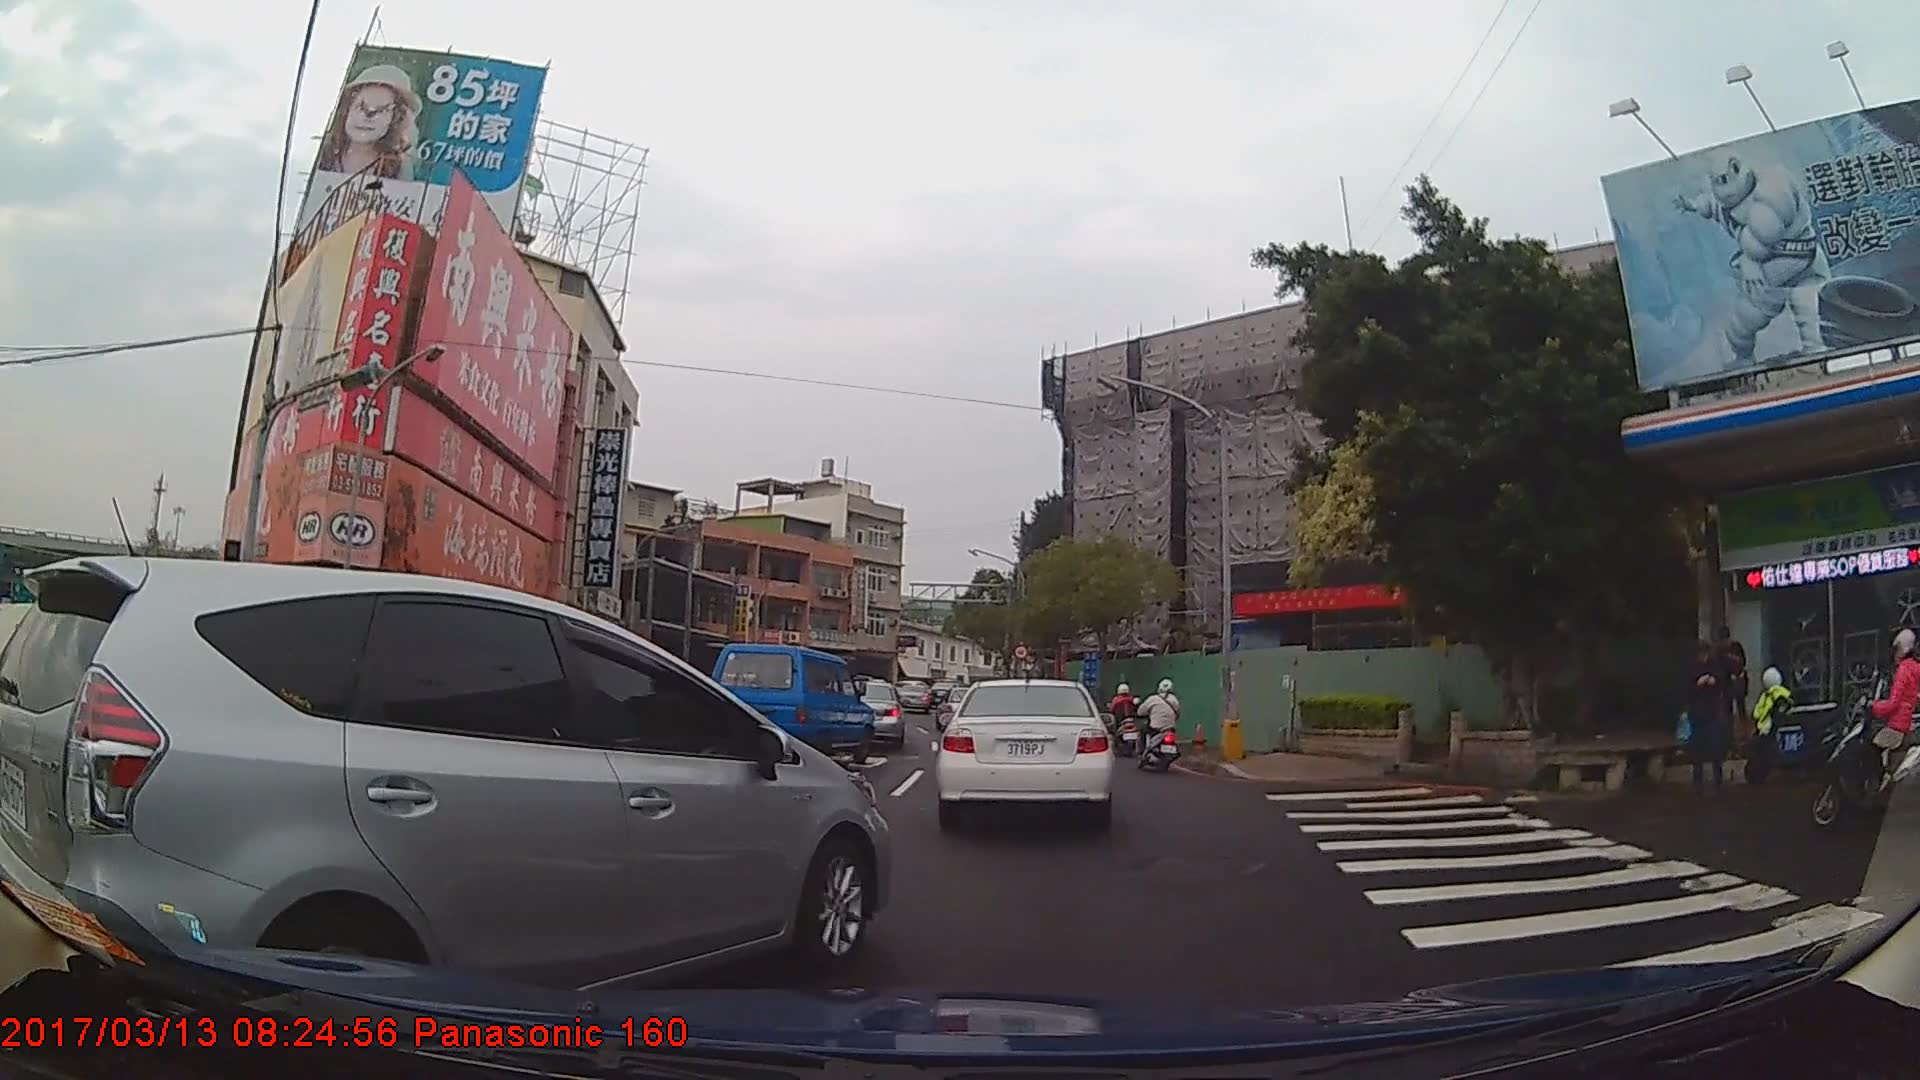pedestrian: (1687, 641, 1735, 797), (1704, 621, 1750, 752)
rider: (1810, 628, 1920, 829), (1142, 677, 1189, 771), (1109, 681, 1143, 757)
vehicle: (0, 557, 894, 1035), (931, 677, 1114, 834), (708, 641, 874, 767), (831, 680, 907, 751)
